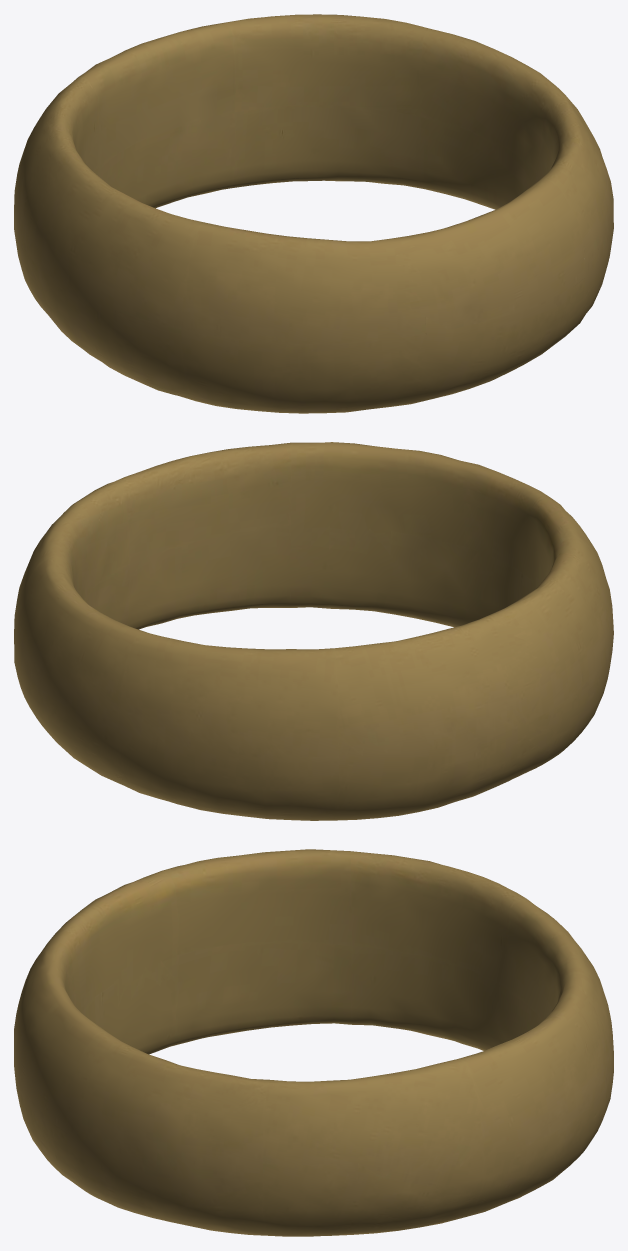
File: rop.glb
3 renders of one model, top to bottom at view 1: azimuth 30°, elevation 25°; view 2: azimuth 150°, elevation 25°; view 3: azimuth 270°, elevation 25°, orthographic.
Visible parts, largest first — view 1: tripo_node_59dd8024-a9e4-43fb-a9de-47c92b674b90; view 2: tripo_node_59dd8024-a9e4-43fb-a9de-47c92b674b90; view 3: tripo_node_59dd8024-a9e4-43fb-a9de-47c92b674b90.
Part boxes in pixels (x1=…): tripo_node_59dd8024-a9e4-43fb-a9de-47c92b674b90: x1=14, y1=14, x2=613, y2=413; tripo_node_59dd8024-a9e4-43fb-a9de-47c92b674b90: x1=14, y1=442, x2=613, y2=820; tripo_node_59dd8024-a9e4-43fb-a9de-47c92b674b90: x1=14, y1=849, x2=613, y2=1236.
Bounding box in the file's own units: 0.998 × 0.3301 × 0.998.
Materials: 1 (1 with a texture image).
